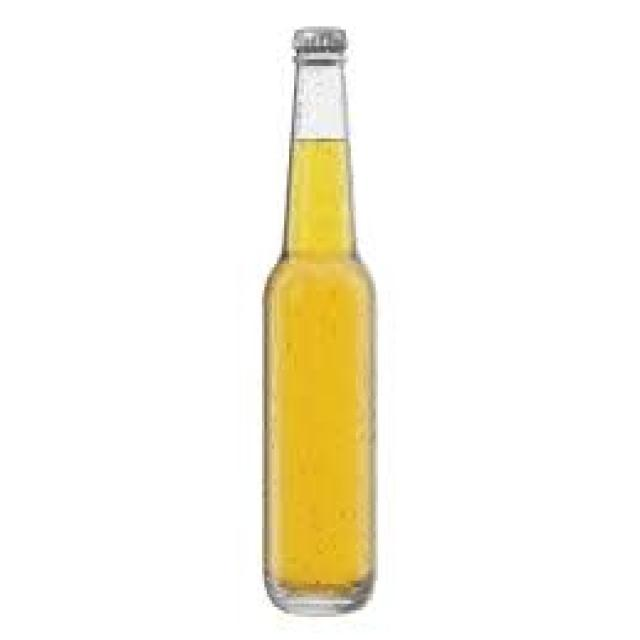glass: (260, 46, 376, 610)
metal: (292, 23, 341, 43)
